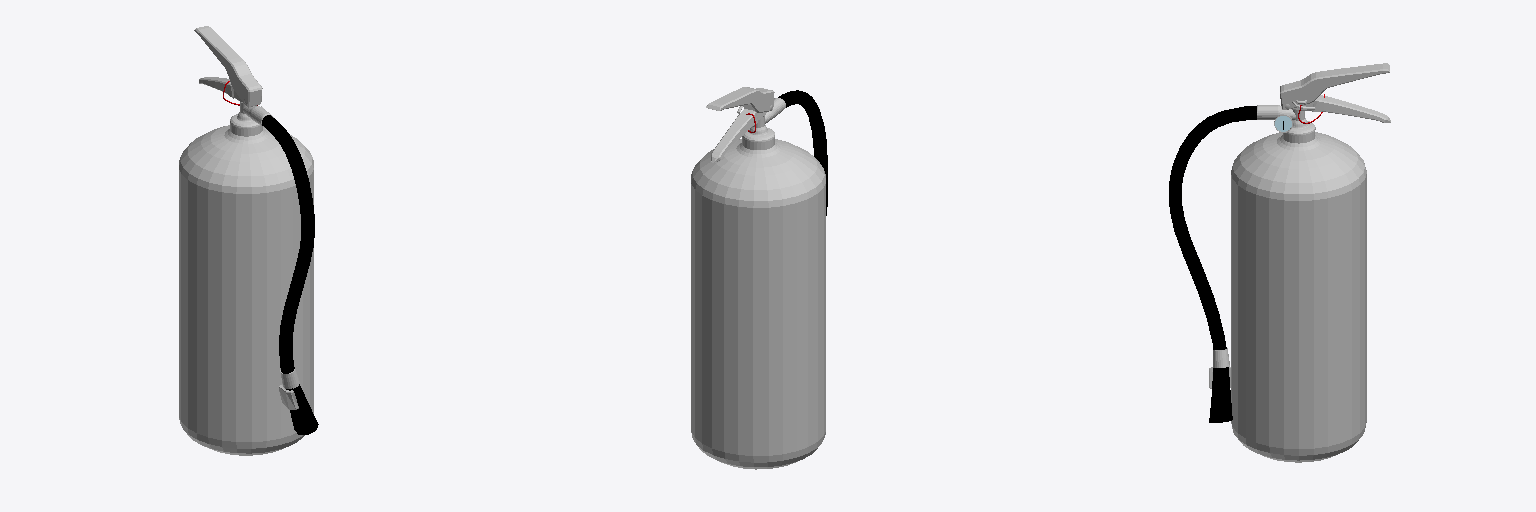
File: fire_extinguisher.obj
The picture shows the model from 3 angles: view 1: azimuth 30°, elevation 25°; view 2: azimuth 150°, elevation 25°; view 3: azimuth 270°, elevation 25°; orthographic projection.
Parts seen in each view (by area): view 1: fire_extinguisher, hose, extinguisher_handle, hose_pipe; view 2: fire_extinguisher, hose, extinguisher_handle, extinguisher_lever, hose_pipe; view 3: fire_extinguisher, hose, extinguisher_handle, extinguisher_lever, hose_pipe.
Part boxes in pixels (left/top/right/bottom): fire_extinguisher: left=179, top=124, right=313, bottom=455; hose: left=262, top=115, right=318, bottom=434; extinguisher_handle: left=194, top=26, right=262, bottom=107; hose_pipe: left=230, top=102, right=273, bottom=128; fire_extinguisher: left=691, top=138, right=825, bottom=469; hose: left=778, top=90, right=827, bottom=215; extinguisher_handle: left=706, top=87, right=774, bottom=112; extinguisher_lever: left=711, top=109, right=766, bottom=162; hose_pipe: left=742, top=98, right=785, bottom=142; fire_extinguisher: left=1231, top=132, right=1366, bottom=462; hose: left=1169, top=106, right=1256, bottom=422; extinguisher_handle: left=1280, top=63, right=1389, bottom=109; extinguisher_lever: left=1292, top=95, right=1390, bottom=122; hose_pipe: left=1257, top=105, right=1315, bottom=135.
Bounding box in the file's own units: 0.1073 × 0.3297 × 0.1754.